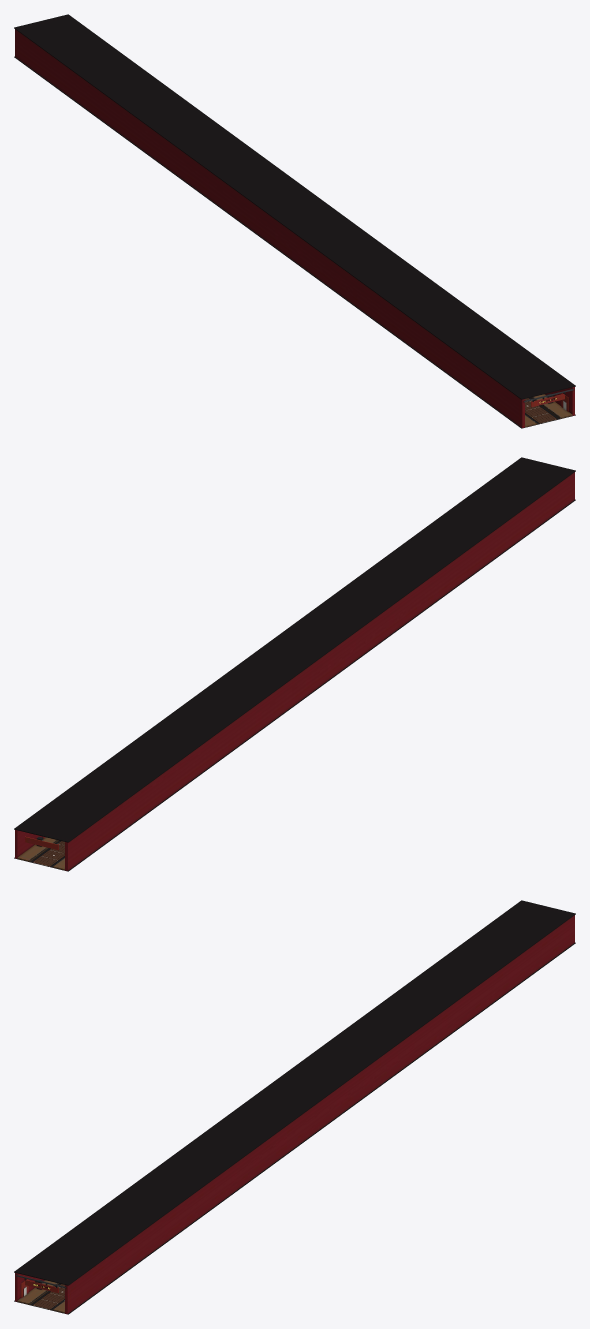
The model's file is opry.glb.
3 views of the same model, one above another, from view 1: azimuth 30°, elevation 25°; view 2: azimuth 150°, elevation 25°; view 3: azimuth 330°, elevation 25° (orthographic).
Visible parts, largest first — view 1: opry; view 2: opry; view 3: opry.
Part boxes in pixels (x1,y1,x2,y2): opry: (14,14,575,428); opry: (14,457,575,871); opry: (14,900,575,1314).
Size of the model in its own units: 26 by 13.5 by 420.
Materials: 1 (1 with a texture image).
